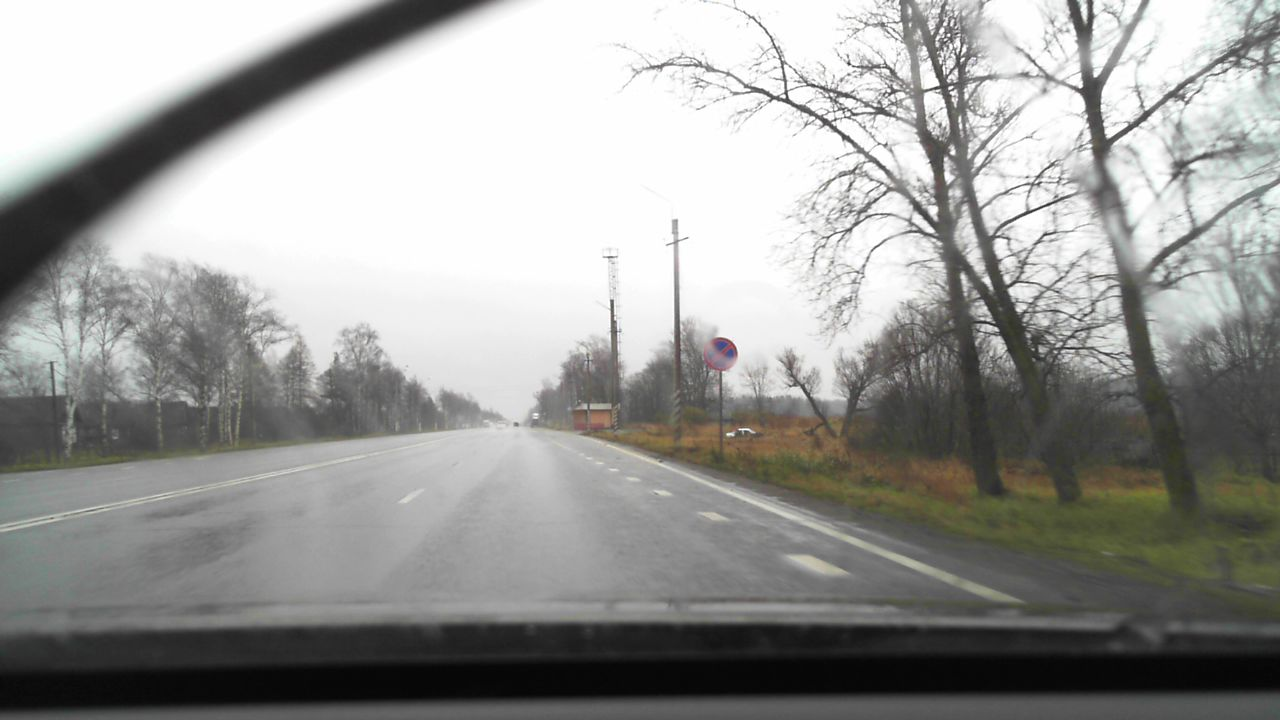No Parking: (704, 338, 737, 371)
